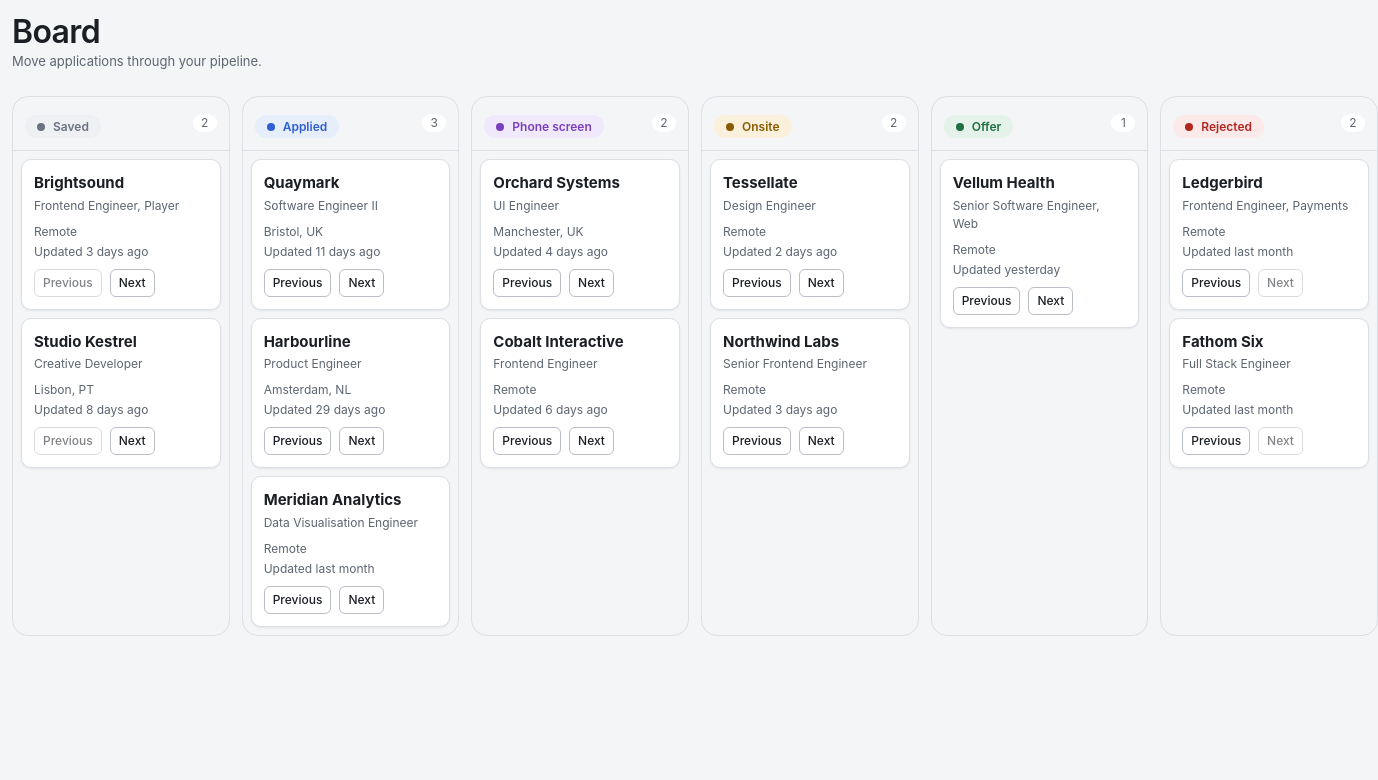
Scenario: BoardPage › moves an application to its next stage
Expected: the text "Northwind Labs" is shown, [723, 332, 839, 350]
Click the 10th button "Next" at (821, 441), box [799, 427, 844, 455]
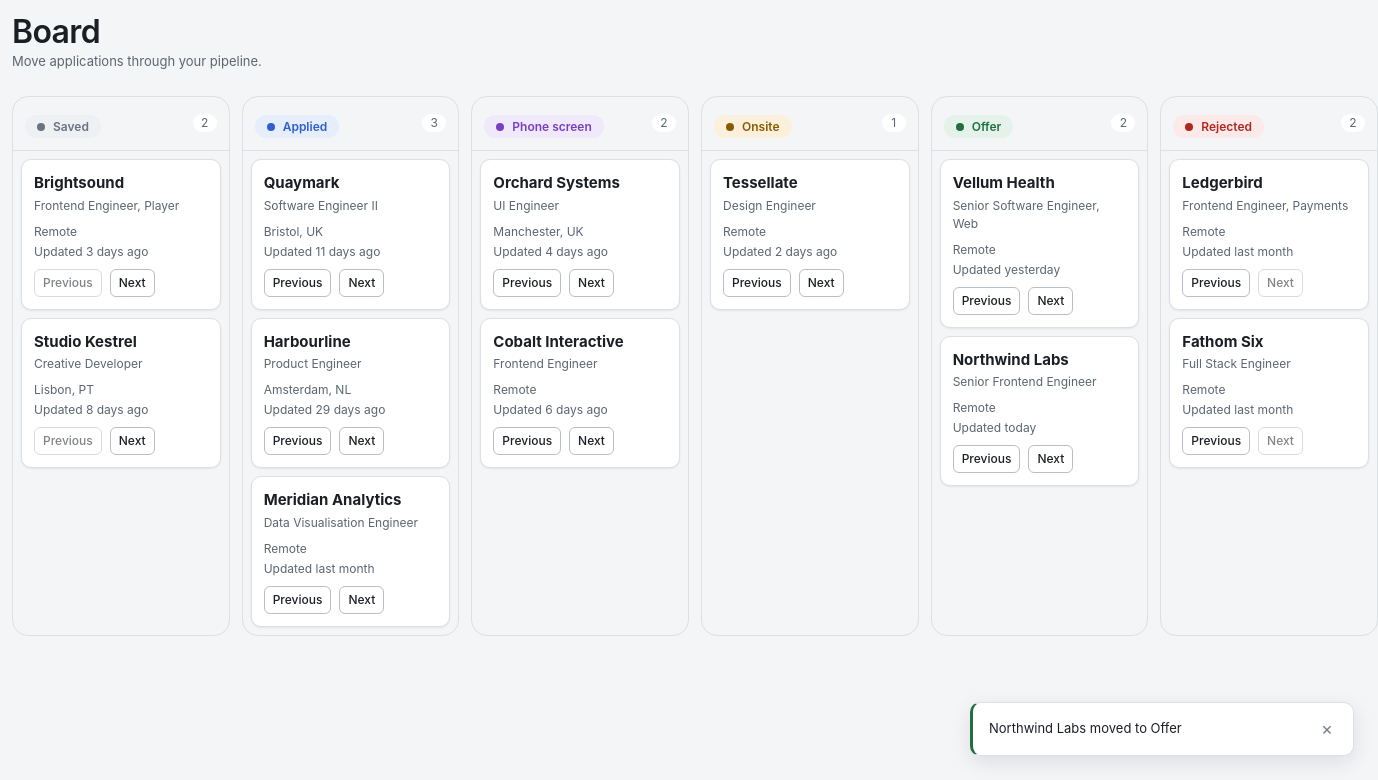
Expected: the text "Northwind Labs" is shown, [953, 348, 1126, 391]
Now the text "Northwind Labs moved to Offer" is shown, box [989, 720, 1182, 736]
